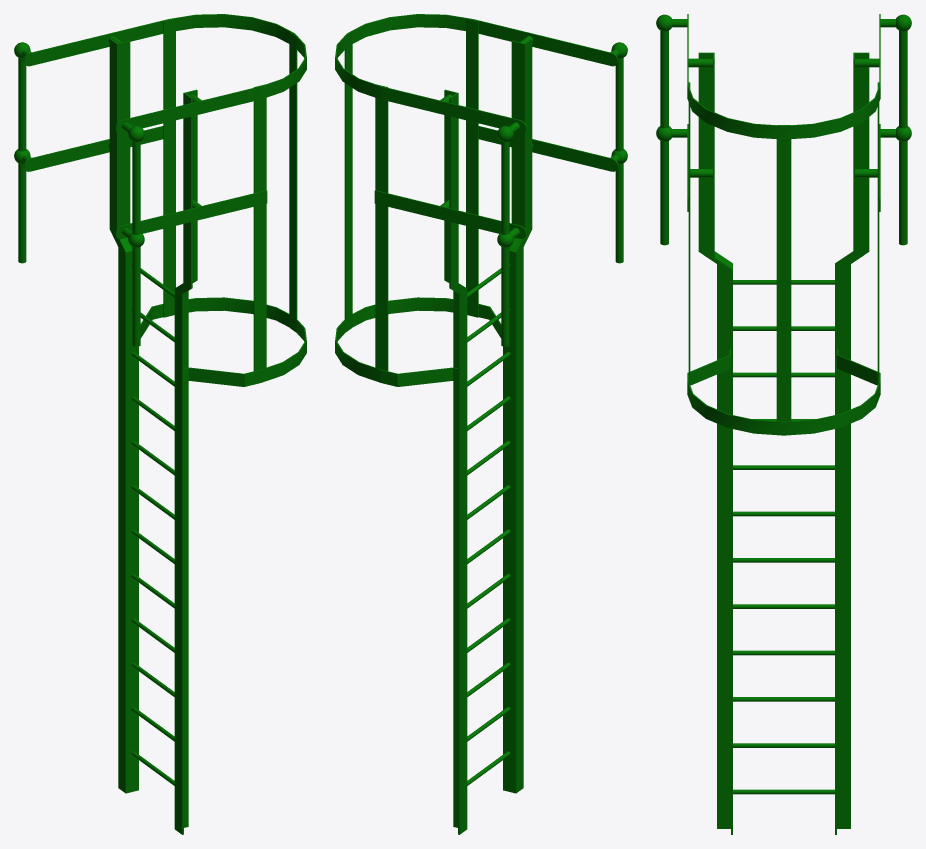
File: Image-1711348149360-2280988738880_53-TB50-LADDER.fbx
The picture shows the model from 3 angles, left to right: view 1: azimuth 30°, elevation 25°; view 2: azimuth 150°, elevation 25°; view 3: azimuth 270°, elevation 25°; orthographic projection. The views are drawn at different scales.
Visible parts, largest first — view 1: BOX 2 of SUBSTRUCTURE 2 of STRUCTURE /53-TB50-LADDER, BOX 2 of SUBSTRUCTURE 1 of STRUCTURE /53-TB50-LADDER, BOX 1 of SUBSTRUCTURE 2 of STRUCTURE /53-TB50-LADDER, BOX 1 of SUBSTRUCTURE 1 of STRUCTURE /53-TB50-LADDER, BOX 1 of SUBSTRUCTURE 6 of STRUCTURE /53-TB50-LADDER, BOX 2 of SUBSTRUCTURE 6 of STRUCTURE /53-TB50-LADDER, BOX 2 of SUBSTRUCTURE 5 of STRUCTURE /53-TB50-LADDER, BOX 3 of SUBSTRUCTURE 6 of STRUCTURE /53-TB50-LADDER, RTORUS 1 of SUBSTRUCTURE 7 of STRUCTURE /53-TB50-LADDER, RTORUS 1 of SUBSTRUCTURE 10 of STRUCTURE /53-TB50-LADDER, BOX 4 of SUBSTRUCTURE 11 of STRUCTURE /53-TB50-LADDER, BOX 1 of SUBSTRUCTURE 11 of STRUCTURE /53-TB50-LADDER (+8 smaller); view 2: BOX 1 of SUBSTRUCTURE 1 of STRUCTURE /53-TB50-LADDER, BOX 1 of SUBSTRUCTURE 2 of STRUCTURE /53-TB50-LADDER, BOX 2 of SUBSTRUCTURE 1 of STRUCTURE /53-TB50-LADDER, BOX 2 of SUBSTRUCTURE 2 of STRUCTURE /53-TB50-LADDER, BOX 2 of SUBSTRUCTURE 6 of STRUCTURE /53-TB50-LADDER, BOX 1 of SUBSTRUCTURE 6 of STRUCTURE /53-TB50-LADDER, BOX 3 of SUBSTRUCTURE 6 of STRUCTURE /53-TB50-LADDER, BOX 1 of SUBSTRUCTURE 4 of STRUCTURE /53-TB50-LADDER, RTORUS 1 of SUBSTRUCTURE 7 of STRUCTURE /53-TB50-LADDER, RTORUS 1 of SUBSTRUCTURE 10 of STRUCTURE /53-TB50-LADDER, BOX 3 of SUBSTRUCTURE 11 of STRUCTURE /53-TB50-LADDER, BOX 2 of SUBSTRUCTURE 4 of STRUCTURE /53-TB50-LADDER (+8 smaller); view 3: BOX 2 of SUBSTRUCTURE 1 of STRUCTURE /53-TB50-LADDER, BOX 1 of SUBSTRUCTURE 2 of STRUCTURE /53-TB50-LADDER, BOX 3 of SUBSTRUCTURE 6 of STRUCTURE /53-TB50-LADDER, RTORUS 1 of SUBSTRUCTURE 7 of STRUCTURE /53-TB50-LADDER, RTORUS 1 of SUBSTRUCTURE 10 of STRUCTURE /53-TB50-LADDER, BOX 1 of SUBSTRUCTURE 5 of STRUCTURE /53-TB50-LADDER, BOX 2 of SUBSTRUCTURE 4 of STRUCTURE /53-TB50-LADDER, CYLINDER 1 of SUBSTRUCTURE 12 of STRUCTURE /53-TB50-LADDER, CYLINDER 1 of SUBSTRUCTURE 13 of STRUCTURE /53-TB50-LADDER, BOX 1 of SUBSTRUCTURE 1 of STRUCTURE /53-TB50-LADDER, BOX 2 of SUBSTRUCTURE 2 of STRUCTURE /53-TB50-LADDER, BOX 2 of SUBSTRUCTURE 6 of STRUCTURE /53-TB50-LADDER (+12 smaller).
Part boxes in pixels (x1,y1,x2,y2): BOX 2 of SUBSTRUCTURE 2 of STRUCTURE /53-TB50-LADDER: (125,251,138,793); BOX 2 of SUBSTRUCTURE 1 of STRUCTURE /53-TB50-LADDER: (175,289,183,834); BOX 1 of SUBSTRUCTURE 2 of STRUCTURE /53-TB50-LADDER: (118,247,127,793); BOX 1 of SUBSTRUCTURE 1 of STRUCTURE /53-TB50-LADDER: (174,288,188,829); BOX 1 of SUBSTRUCTURE 6 of STRUCTURE /53-TB50-LADDER: (253,84,266,370); BOX 2 of SUBSTRUCTURE 6 of STRUCTURE /53-TB50-LADDER: (163,18,175,317); BOX 2 of SUBSTRUCTURE 5 of STRUCTURE /53-TB50-LADDER: (116,40,130,228); BOX 3 of SUBSTRUCTURE 6 of STRUCTURE /53-TB50-LADDER: (289,31,297,332); RTORUS 1 of SUBSTRUCTURE 7 of STRUCTURE /53-TB50-LADDER: (169,14,306,99); RTORUS 1 of SUBSTRUCTURE 10 of STRUCTURE /53-TB50-LADDER: (188,297,306,382); BOX 4 of SUBSTRUCTURE 11 of STRUCTURE /53-TB50-LADDER: (122,190,267,238); BOX 1 of SUBSTRUCTURE 11 of STRUCTURE /53-TB50-LADDER: (121,86,260,133); BOX 1 of SUBSTRUCTURE 1 of STRUCTURE /53-TB50-LADDER: (503,251,516,793); BOX 1 of SUBSTRUCTURE 2 of STRUCTURE /53-TB50-LADDER: (458,289,466,834); BOX 2 of SUBSTRUCTURE 1 of STRUCTURE /53-TB50-LADDER: (514,247,523,792); BOX 2 of SUBSTRUCTURE 2 of STRUCTURE /53-TB50-LADDER: (453,288,467,829); BOX 2 of SUBSTRUCTURE 6 of STRUCTURE /53-TB50-LADDER: (375,84,388,370); BOX 1 of SUBSTRUCTURE 6 of STRUCTURE /53-TB50-LADDER: (466,18,478,317); BOX 3 of SUBSTRUCTURE 6 of STRUCTURE /53-TB50-LADDER: (344,31,352,332); BOX 1 of SUBSTRUCTURE 4 of STRUCTURE /53-TB50-LADDER: (511,40,525,229); RTORUS 1 of SUBSTRUCTURE 7 of STRUCTURE /53-TB50-LADDER: (335,14,472,99); RTORUS 1 of SUBSTRUCTURE 10 of STRUCTURE /53-TB50-LADDER: (335,297,453,382); BOX 3 of SUBSTRUCTURE 11 of STRUCTURE /53-TB50-LADDER: (374,190,519,238); BOX 2 of SUBSTRUCTURE 4 of STRUCTURE /53-TB50-LADDER: (523,38,532,232); BOX 2 of SUBSTRUCTURE 1 of STRUCTURE /53-TB50-LADDER: (717,264,730,828); BOX 1 of SUBSTRUCTURE 2 of STRUCTURE /53-TB50-LADDER: (837,264,850,828); BOX 3 of SUBSTRUCTURE 6 of STRUCTURE /53-TB50-LADDER: (776,125,791,421); RTORUS 1 of SUBSTRUCTURE 7 of STRUCTURE /53-TB50-LADDER: (687,85,880,139); RTORUS 1 of SUBSTRUCTURE 10 of STRUCTURE /53-TB50-LADDER: (687,381,880,435); BOX 1 of SUBSTRUCTURE 5 of STRUCTURE /53-TB50-LADDER: (853,52,869,251); BOX 2 of SUBSTRUCTURE 4 of STRUCTURE /53-TB50-LADDER: (698,52,712,251); CYLINDER 1 of SUBSTRUCTURE 12 of STRUCTURE /53-TB50-LADDER: (899,30,907,245); CYLINDER 1 of SUBSTRUCTURE 13 of STRUCTURE /53-TB50-LADDER: (660,30,668,245); BOX 1 of SUBSTRUCTURE 1 of STRUCTURE /53-TB50-LADDER: (731,270,732,834); BOX 2 of SUBSTRUCTURE 2 of STRUCTURE /53-TB50-LADDER: (835,270,836,834); BOX 2 of SUBSTRUCTURE 6 of STRUCTURE /53-TB50-LADDER: (877,82,879,384).
Size of the model in its own units: 1.2 by 1.13 by 3.77.
